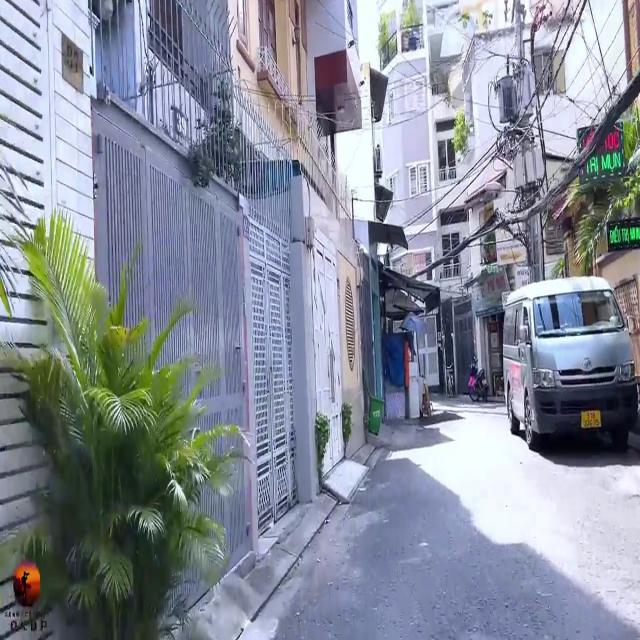bien_vang: (579, 407, 604, 431)
